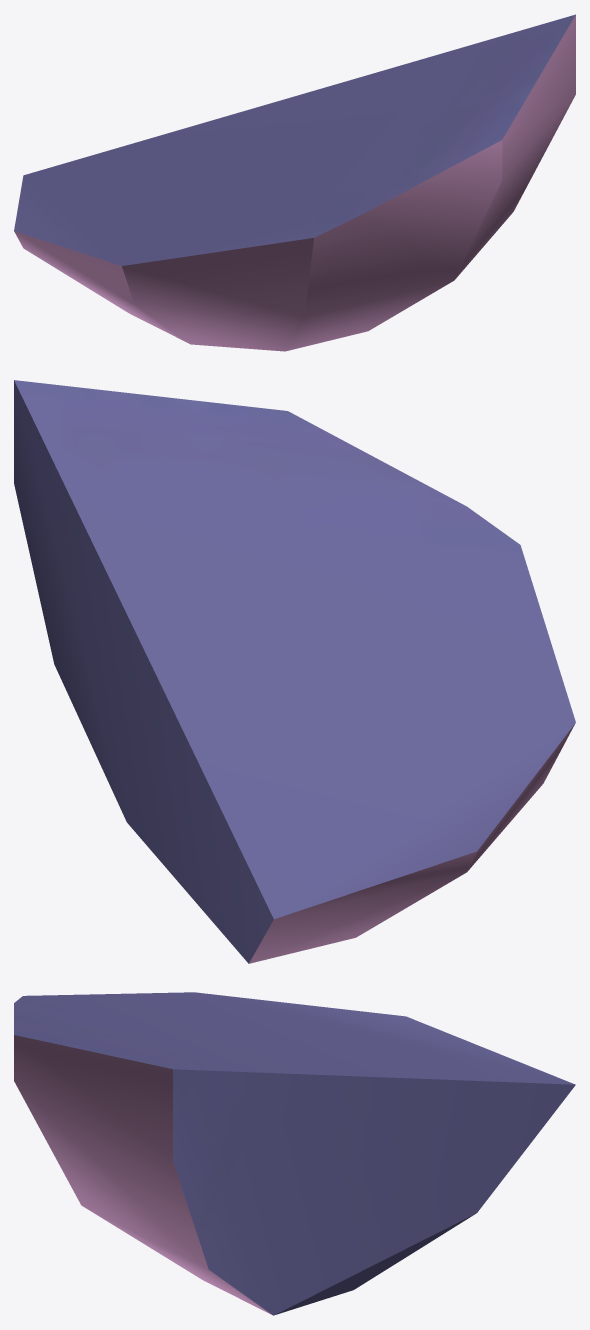
Rendered from augurball 3.fbx.
3 views of the same model, one above another, from view 1: azimuth 30°, elevation 25°; view 2: azimuth 150°, elevation 25°; view 3: azimuth 270°, elevation 25° (orthographic). The views are drawn at different scales.
Parts seen in each view (by area): view 1: augur ball3; view 2: augur ball3; view 3: augur ball3.
Part boxes in pixels (x1=…): augur ball3: x1=14, y1=14, x2=575, y2=351; augur ball3: x1=14, y1=380, x2=575, y2=963; augur ball3: x1=14, y1=992, x2=575, y2=1315.
Size of the model in its own units: 53.39 by 34.1 by 49.18.
